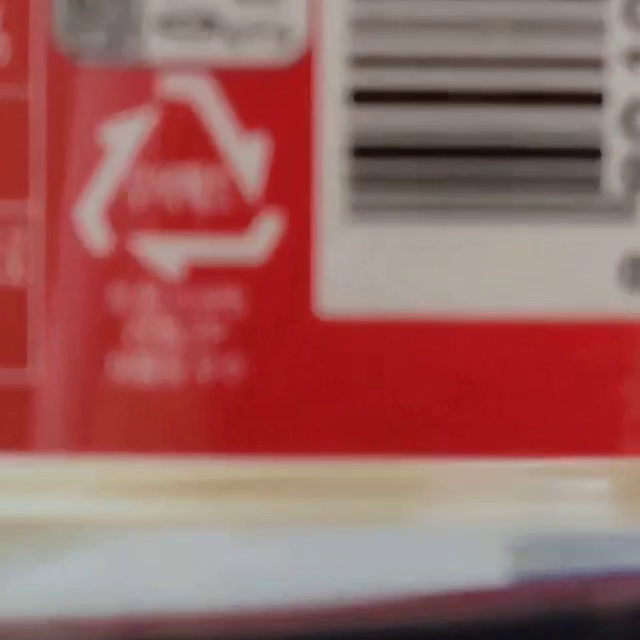ColorlessPet: (70, 75, 286, 283)
